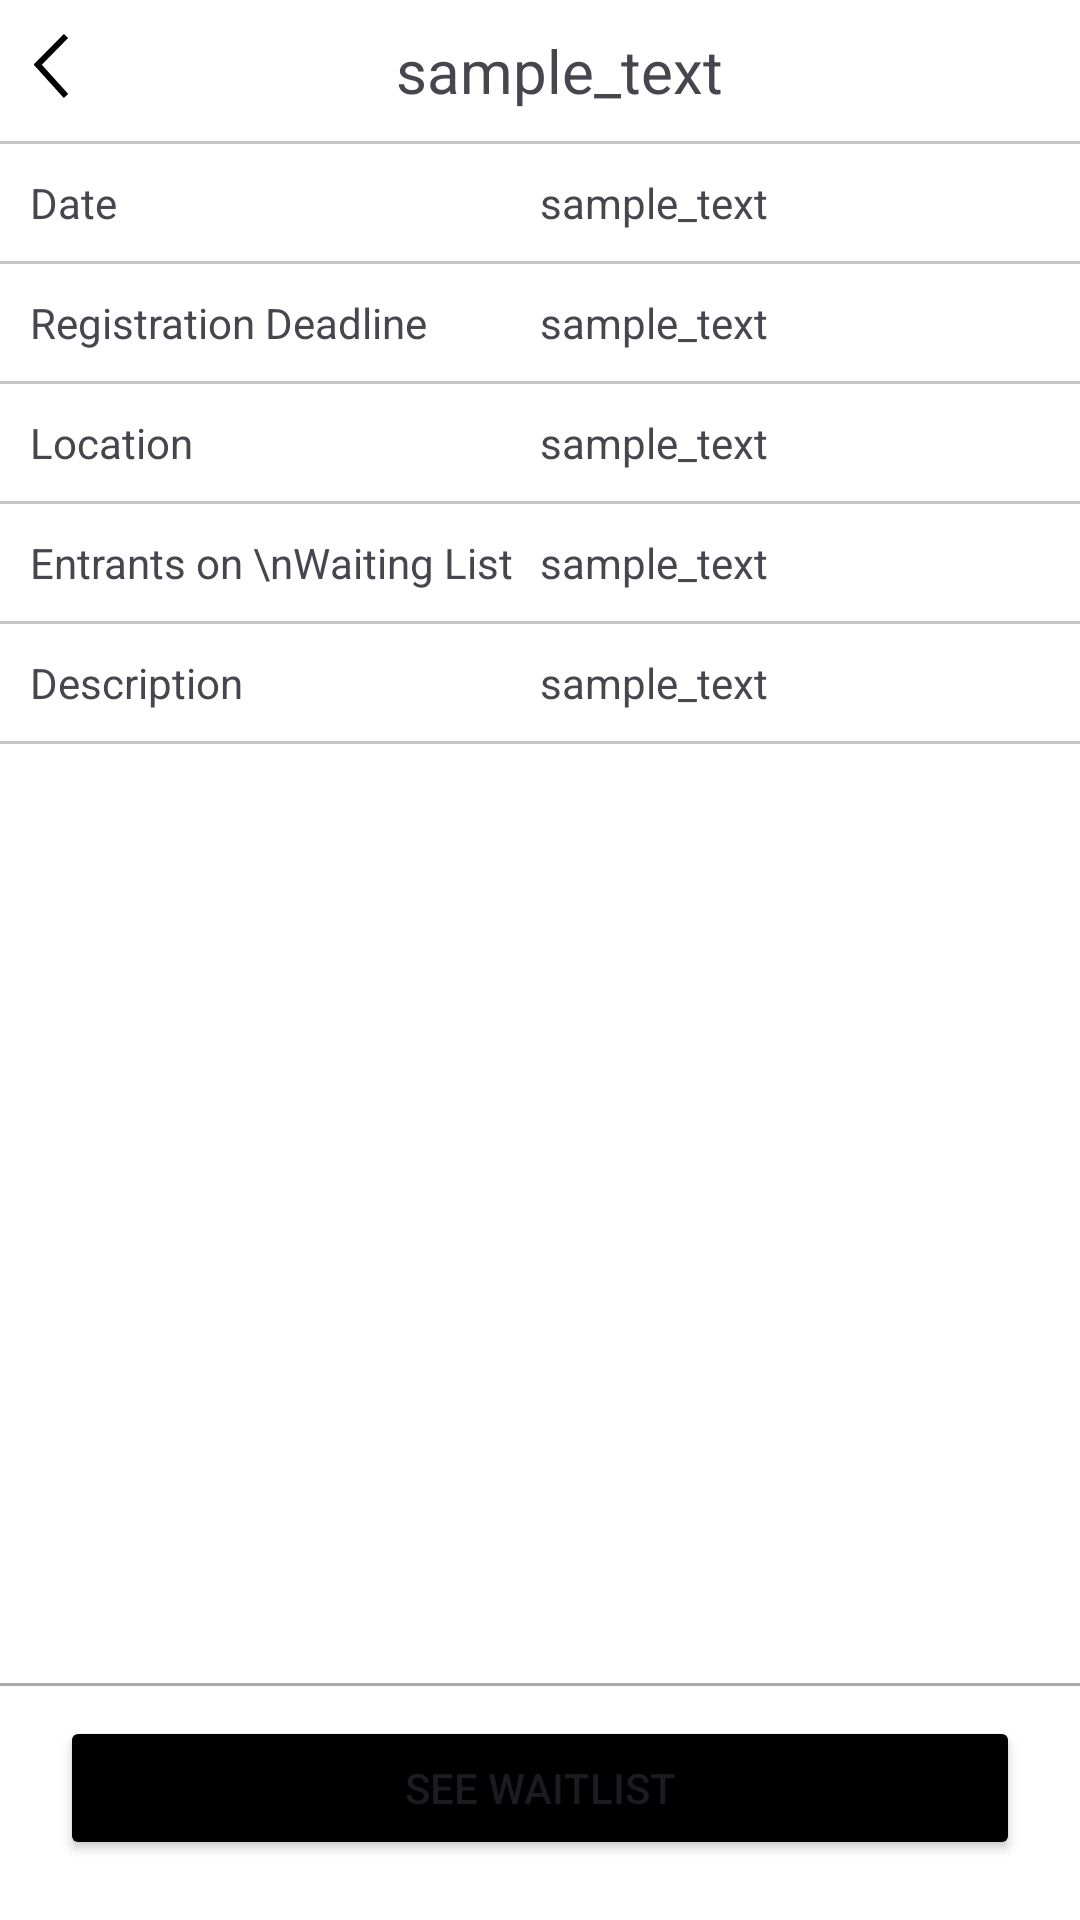

Where icons sit on this 1080w x 1920h app screen, as [x1, y1, x2, y2]:
back: [34, 34, 68, 98]
